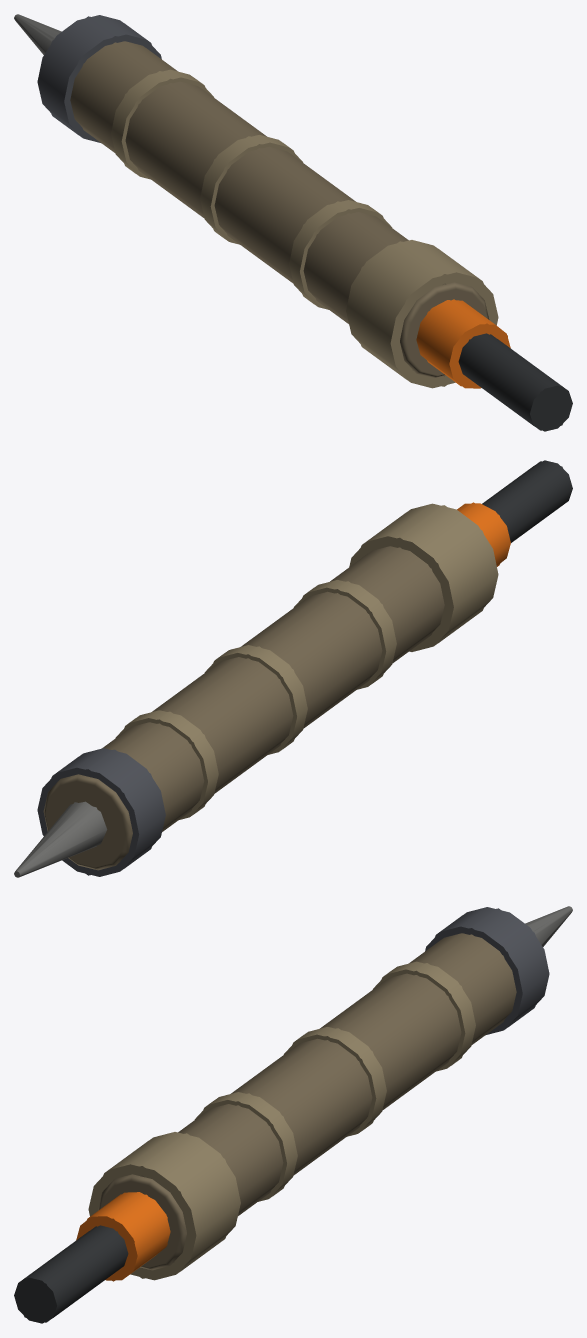
File: st_supply.glb
3 renders of one model, top to bottom at view 1: azimuth 30°, elevation 25°; view 2: azimuth 150°, elevation 25°; view 3: azimuth 330°, elevation 25°, orthographic.
Parts seen in each view (by area): view 1: L0, L1; view 2: L0, L1; view 3: L0, L1.
Boxes of the visible parts, x1,y1,x2,y2 form: L0: (14, 14, 572, 431); L1: (15, 14, 572, 430); L0: (14, 460, 572, 877); L1: (14, 461, 563, 877); L0: (14, 906, 572, 1323); L1: (16, 906, 571, 1322).
Size of the model in its own units: 0.07 by 0.07 by 0.6.
